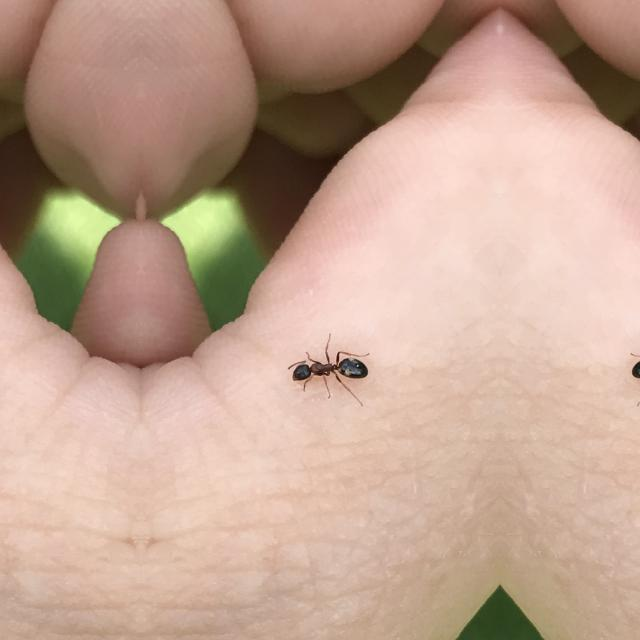Dolichoderus: (280, 333, 370, 411)
